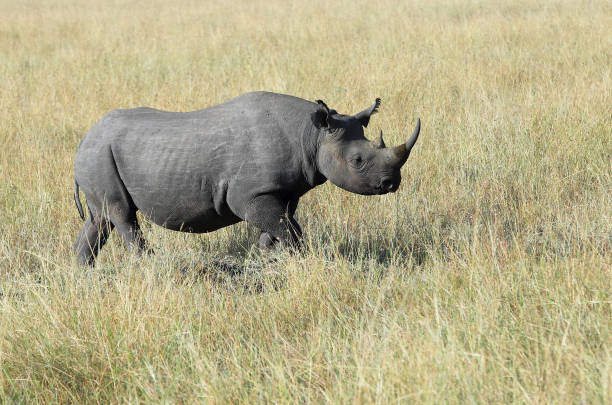rhino: (290, 85, 430, 198)
